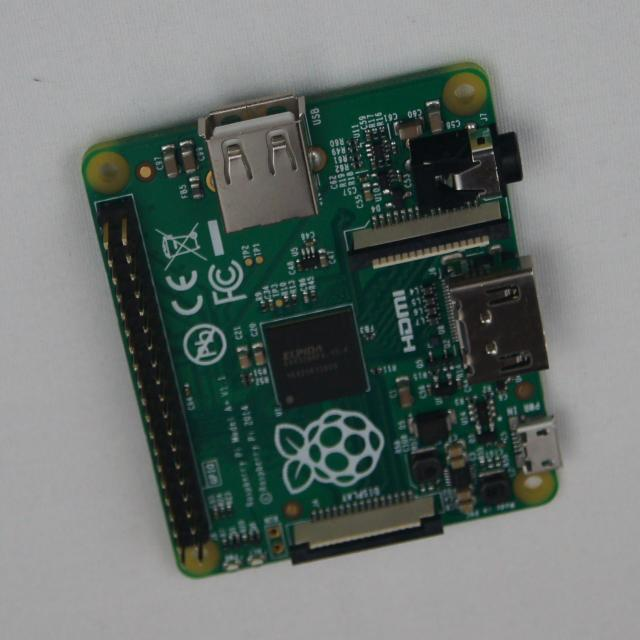Raspberry-Pi-1-A-: (83, 64, 561, 577)
